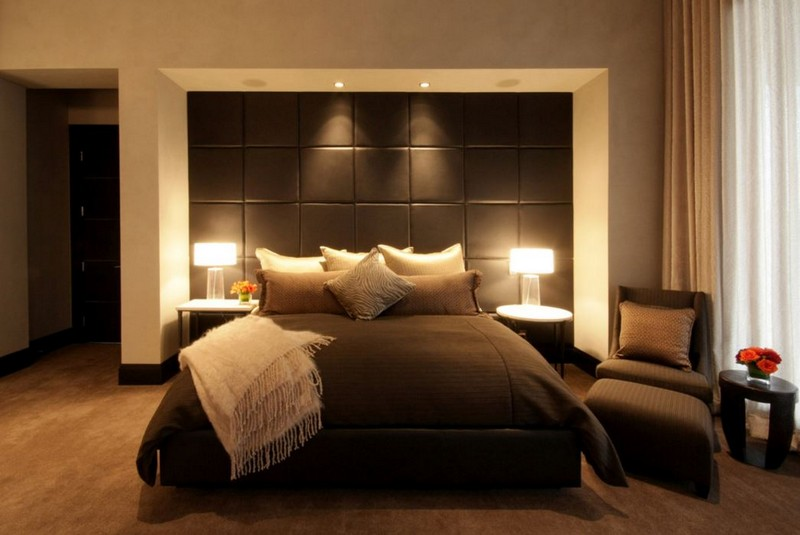bed: (168, 243, 605, 501)
lamp: (504, 242, 554, 311), (189, 236, 239, 302)
sofa: (598, 280, 719, 408)
stool: (586, 375, 722, 501), (713, 368, 800, 474), (493, 299, 576, 387), (173, 300, 262, 346)
